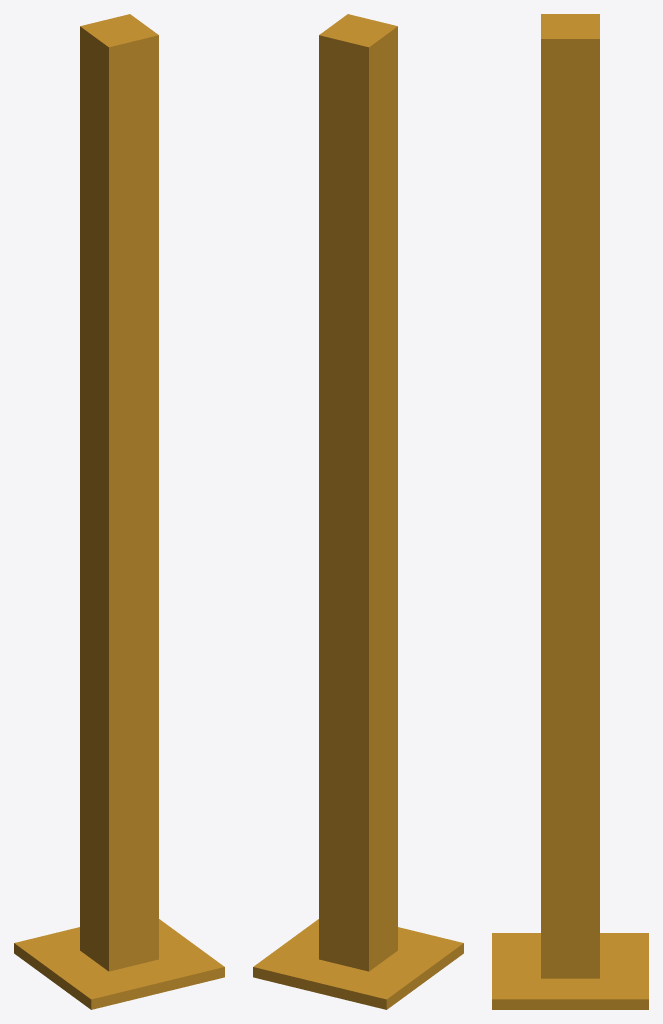
The model's file is rail_post.gltf.
3 views of the same model, side by side, from view 1: azimuth 30°, elevation 25°; view 2: azimuth 150°, elevation 25°; view 3: azimuth 270°, elevation 25° (orthographic).
Parts seen in each view (by area): view 1: rail_post; view 2: rail_post; view 3: rail_post.
Boxes of the visible parts, x1,y1,x2,y2 form: rail_post: [14, 14, 224, 1009]; rail_post: [253, 14, 463, 1009]; rail_post: [492, 14, 648, 1009].
Size of the model in its own units: 0.16 by 1.07 by 0.16.
